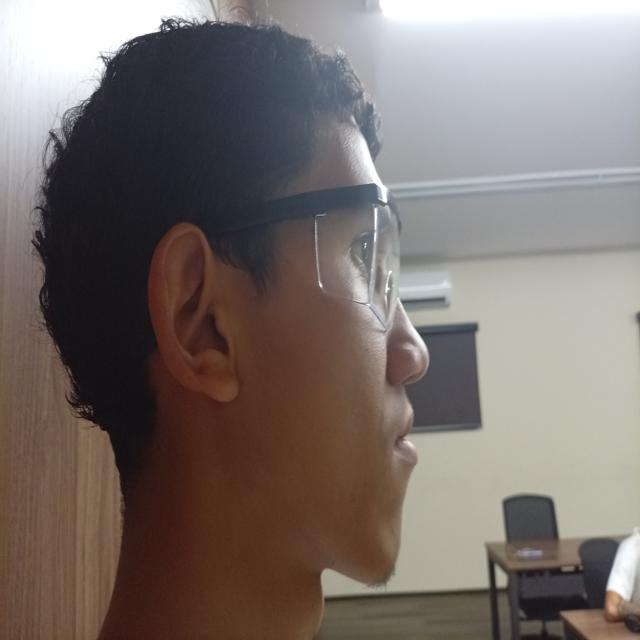oculos-epi: (199, 184, 400, 329)
